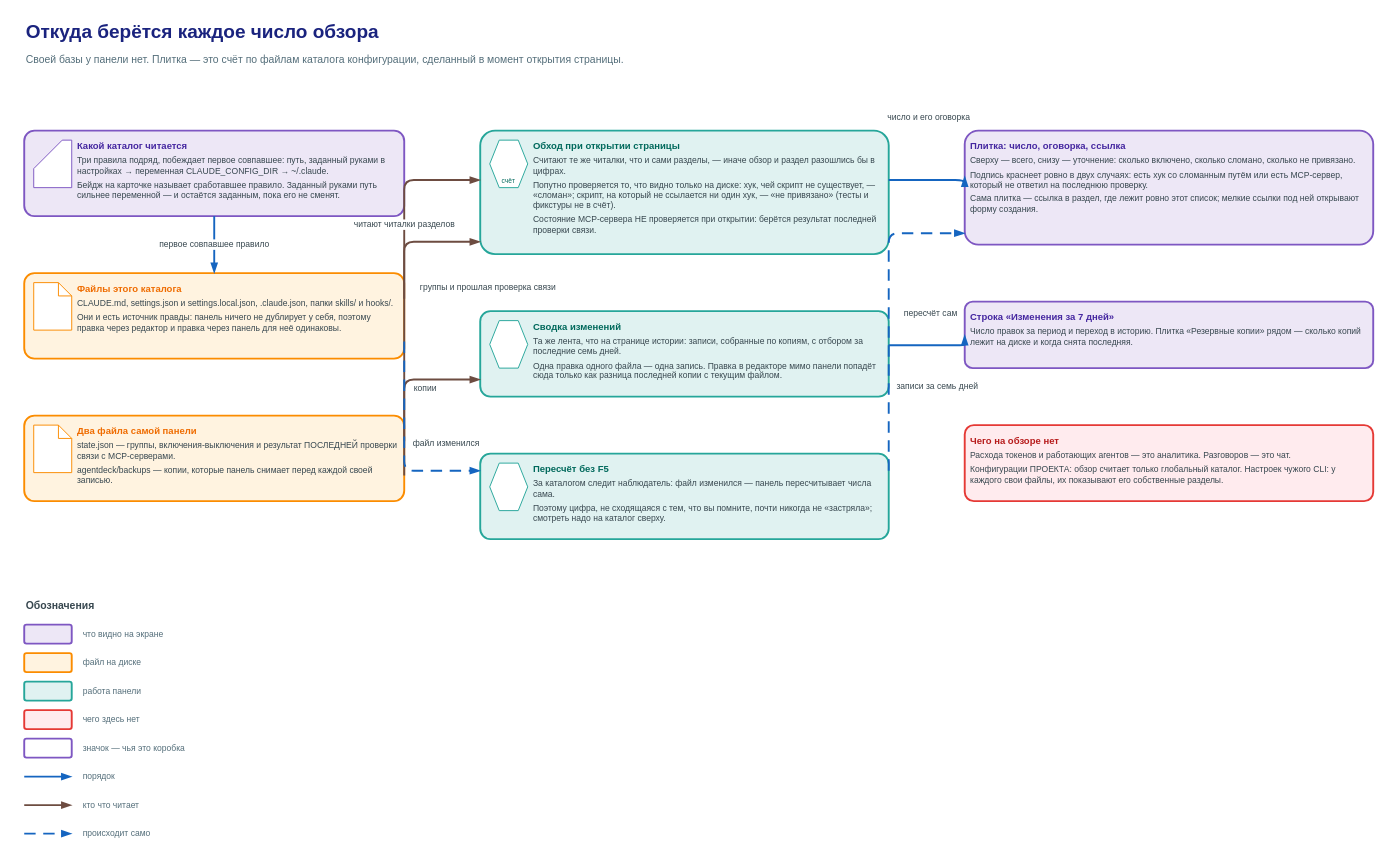
The diagram is 1390 pixels wide and 859 high, and some of its shapes have lost their labels. Each missing label, with the box of its shape:
7 дн.: (489, 320, 528, 368)
live: (489, 462, 528, 511)
путь: (33, 139, 72, 188)
своё: (33, 424, 72, 473)
файлы: (33, 282, 72, 330)
